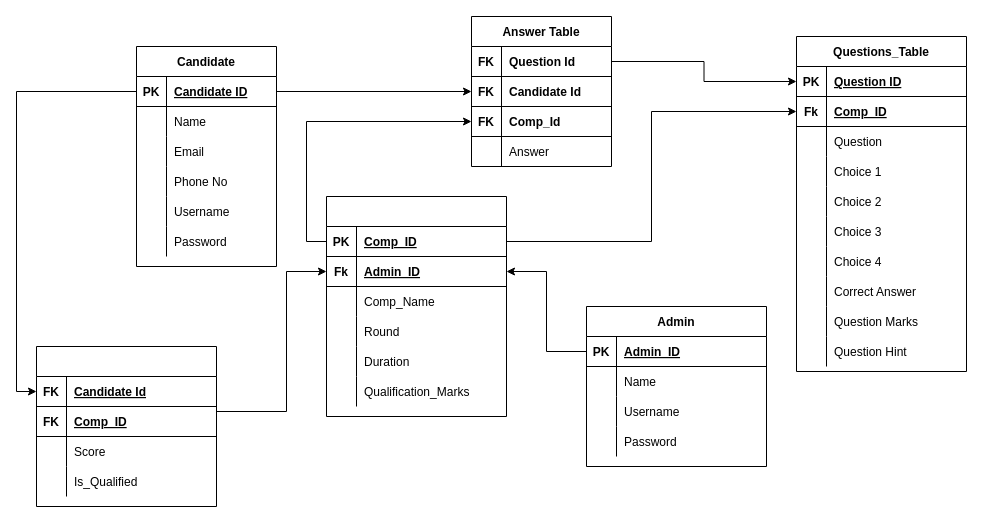
Image size: 983x523. Some labels were removed from this diagram. The box of each missing label's shape, as (x1, y1, x2, y2) in pixels:
Competition: (326, 196, 506, 416)
Result: (36, 346, 216, 506)
